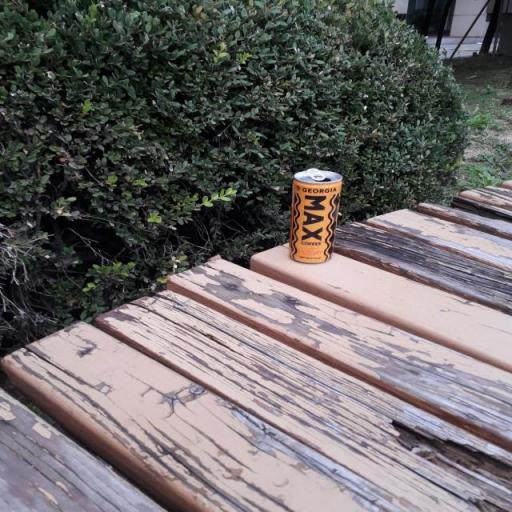metal: (262, 154, 364, 273)
